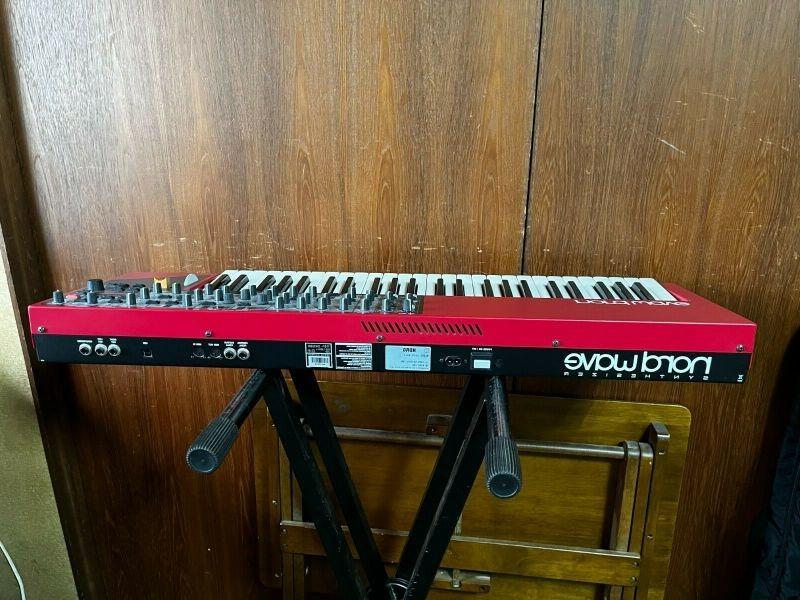synthesizer: (13, 253, 780, 403)
